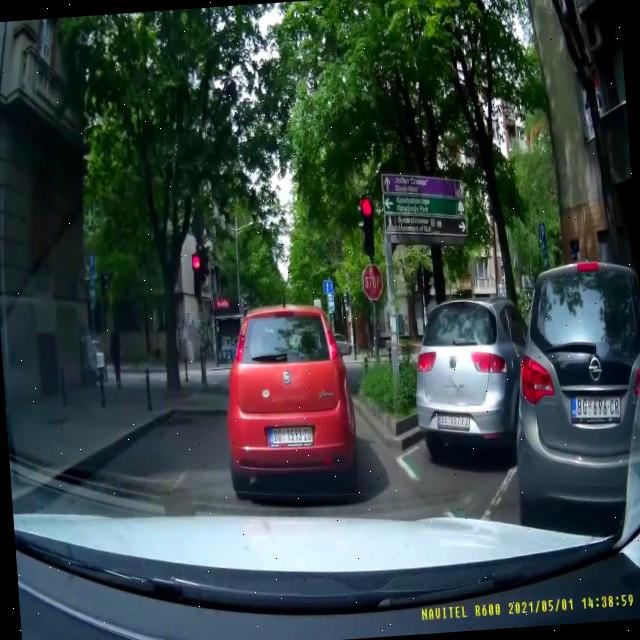License-plate: (568, 391, 621, 426), (268, 421, 314, 450), (436, 409, 471, 432)
